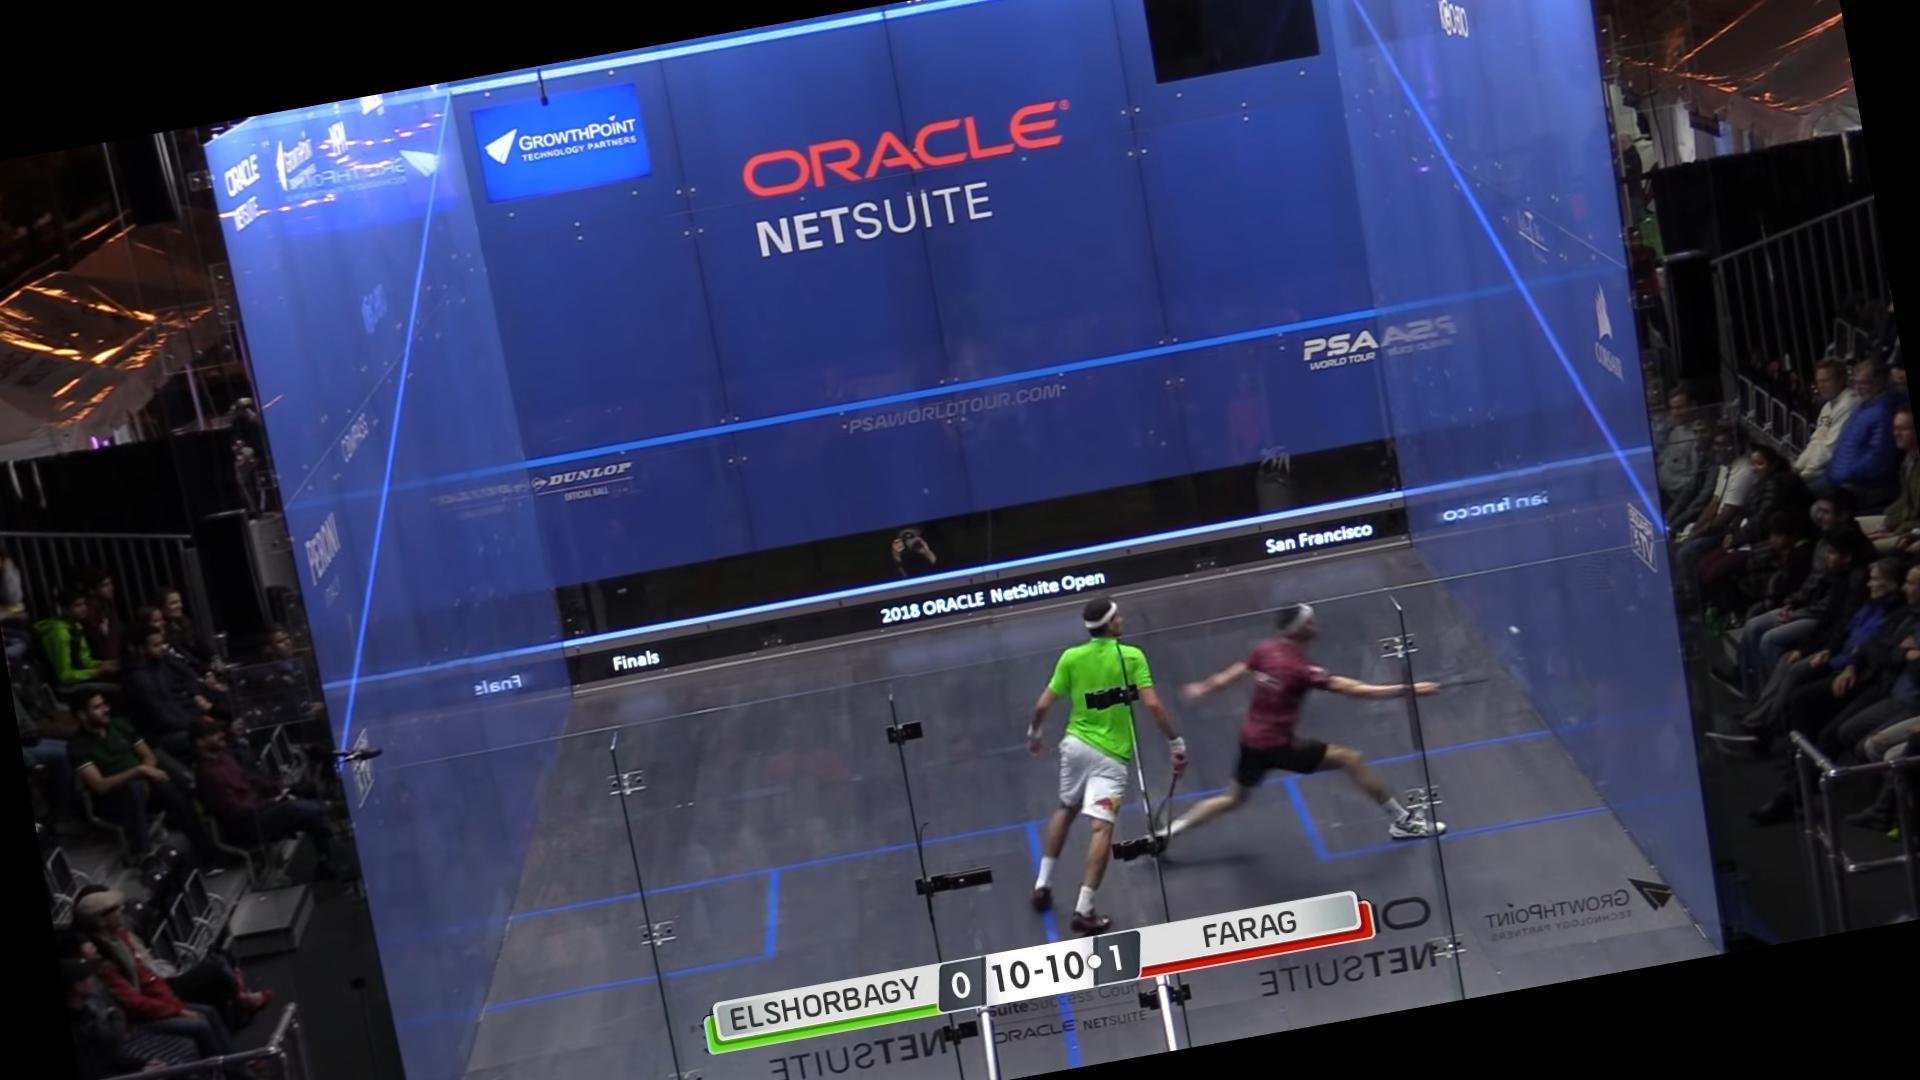Squash-Ball: (1503, 612, 1534, 650)
